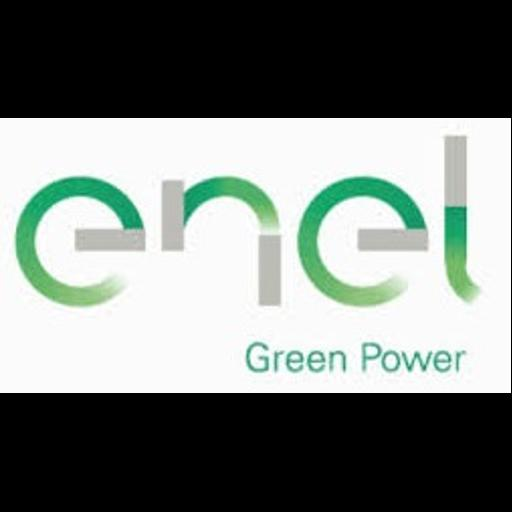Enel Energia S-p-A: (0, 118, 511, 393)
